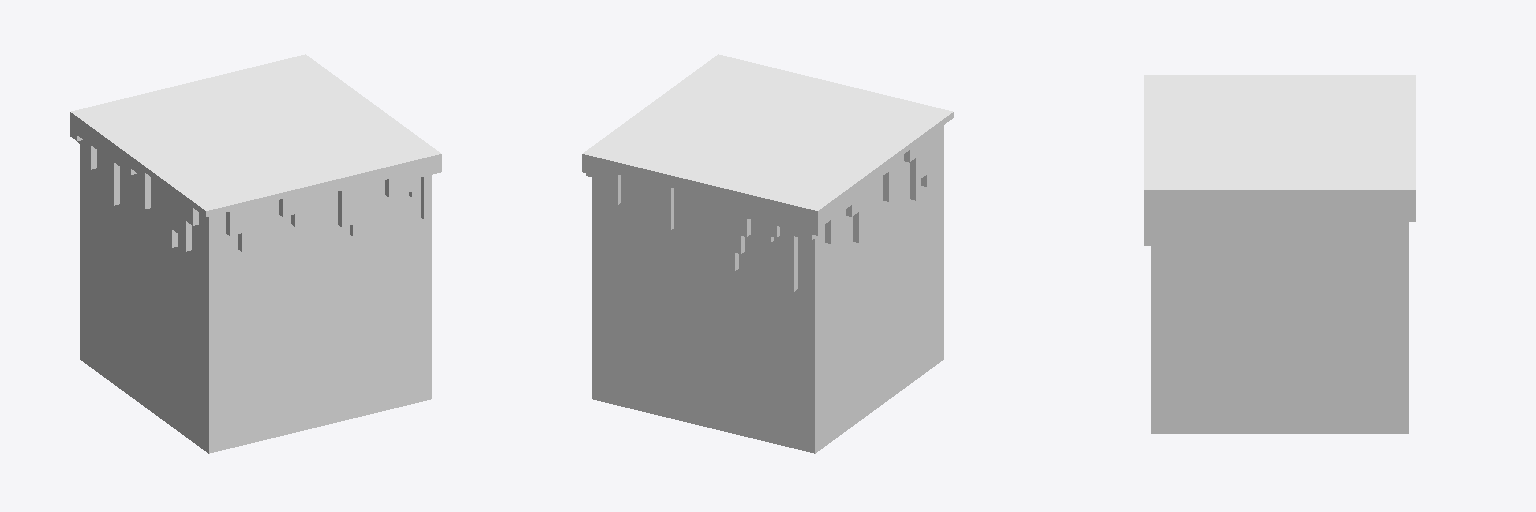
Rendered from grass_tile_3.obj.
3 renders of one model, left to right at view 1: azimuth 30°, elevation 25°; view 2: azimuth 150°, elevation 25°; view 3: azimuth 270°, elevation 25°, orthographic.
Visible parts, largest first — view 1: tile; view 2: tile; view 3: tile.
Part boxes in pixels (x1,y1,x2,y2): tile: (70, 54, 441, 453); tile: (582, 54, 953, 453); tile: (1144, 75, 1415, 433).
Size of the model in its own units: 4 by 4 by 4.